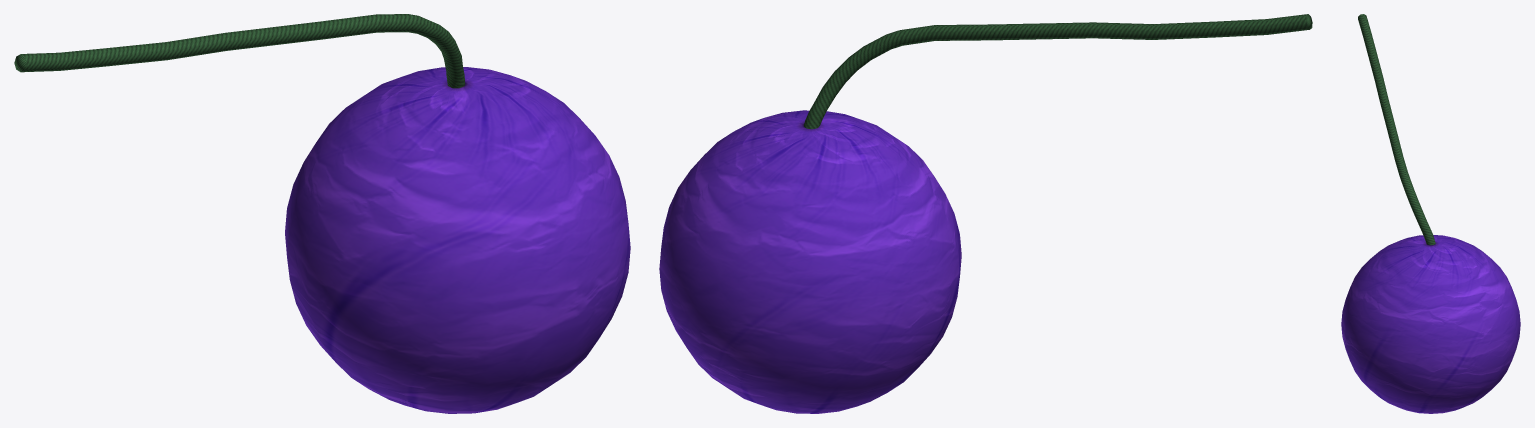
The model's file is bomb2.fbx.
The picture shows the model from 3 angles, left to right: view 1: azimuth 30°, elevation 25°; view 2: azimuth 150°, elevation 25°; view 3: azimuth 270°, elevation 25°; orthographic projection. The views are drawn at different scales.
Parts seen in each view (by area): view 1: polySurface1, polySurface3; view 2: polySurface1, polySurface3; view 3: polySurface1, polySurface3.
Part boxes in pixels (x1=…): polySurface1: x1=285, y1=67, x2=630, y2=413; polySurface3: x1=14, y1=14, x2=464, y2=88; polySurface1: x1=659, y1=110, x2=961, y2=413; polySurface3: x1=804, y1=14, x2=1312, y2=129; polySurface1: x1=1341, y1=235, x2=1520, y2=413; polySurface3: x1=1358, y1=14, x2=1435, y2=245.
Bounding box in the file's own units: 17.45 × 13.05 × 8.
1 material, 1 textured.
